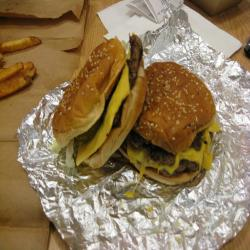burger: (43, 39, 148, 173), (121, 57, 219, 196)
